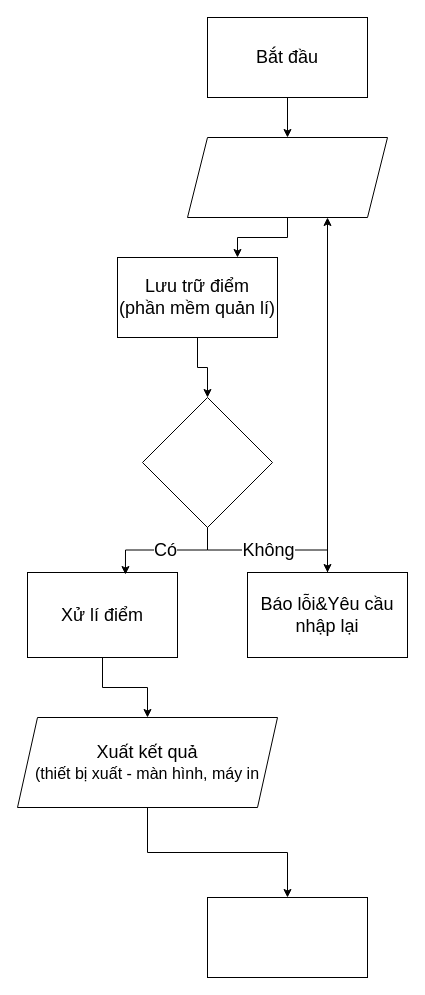
Image size: 425x995. Some labels were removed from this diagram. The centre of each missing label's shape, as x and y in pixels:
"Kết thúc" goes at pixel 287 937.
"Nhập điểm sinh viên (Thiết bị: bàn phím)" goes at pixel 287 177.
"Điểm hợp lệ" goes at pixel 207 462.
